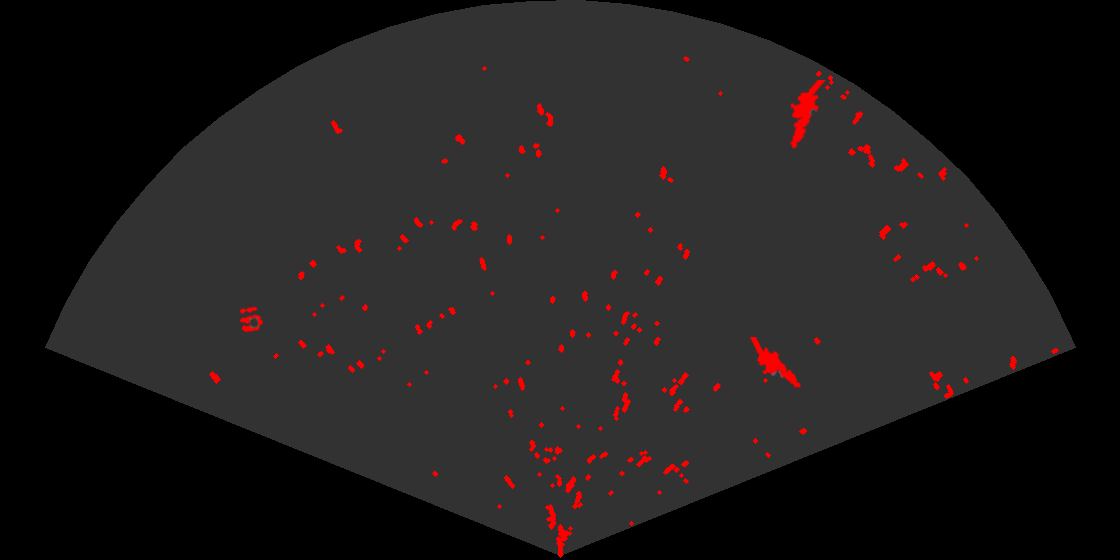ball: (238, 305, 265, 334)
frogman: (748, 337, 802, 390), (788, 80, 828, 150)
